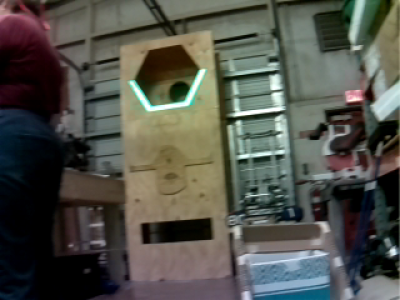target: (127, 68, 208, 111)
